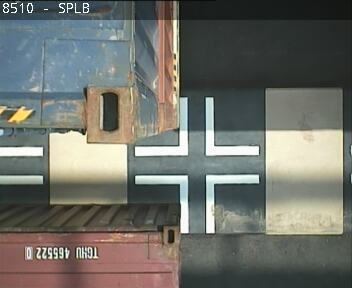groundmarker_1: (133, 97, 258, 157), (135, 173, 258, 232)
